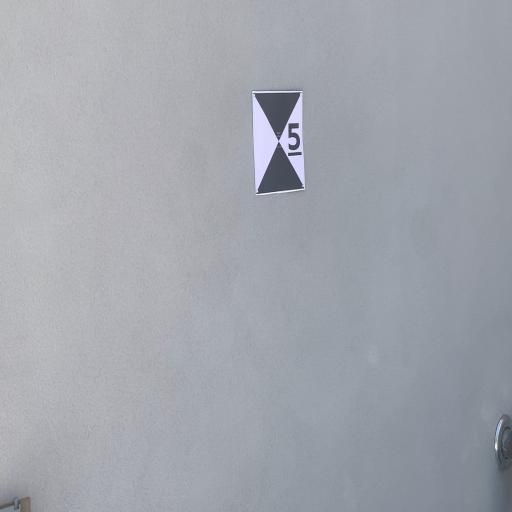target5: (253, 90, 305, 193)
